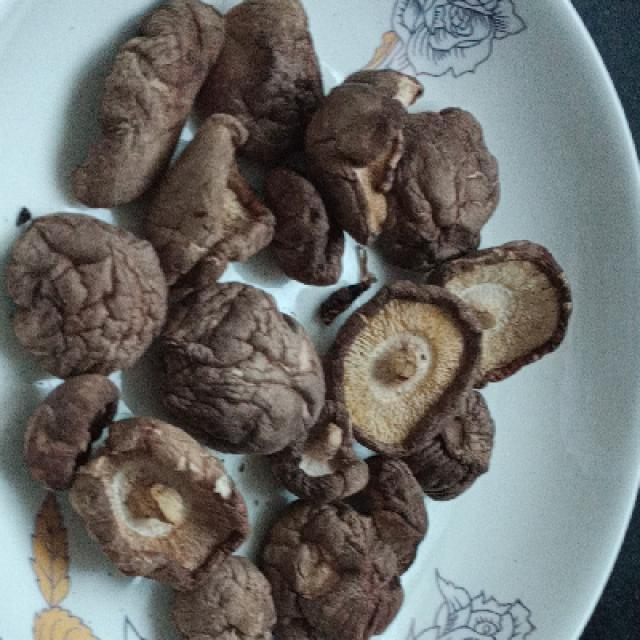Lentinus edodes: (261, 456, 429, 640), (84, 0, 226, 209), (82, 415, 253, 582), (0, 215, 170, 375), (156, 113, 283, 319), (334, 281, 482, 453), (174, 287, 323, 457), (309, 67, 427, 244), (434, 239, 576, 384)
